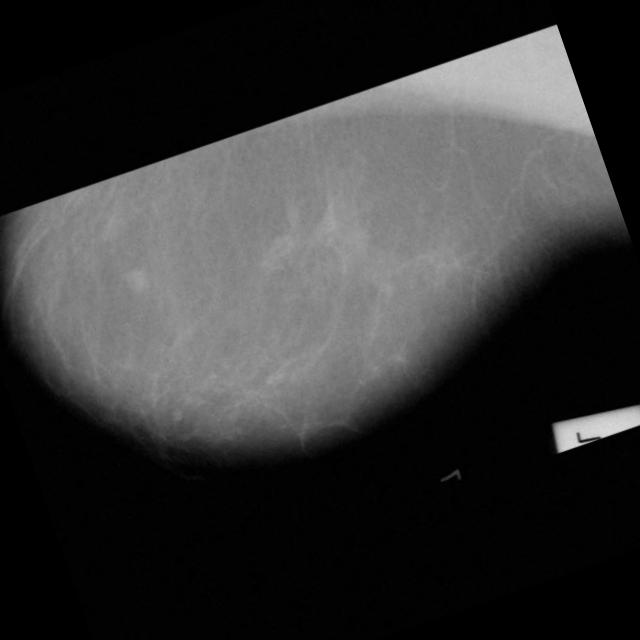CALC: (251, 230, 310, 289)
